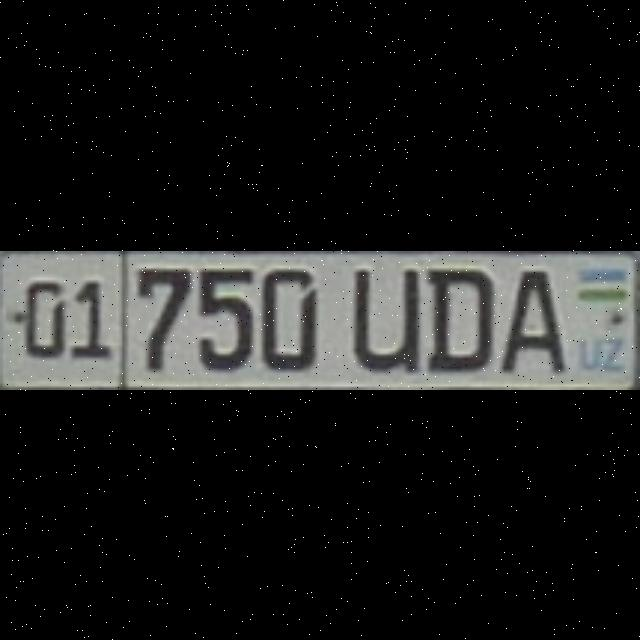0: (255, 262, 312, 366), (20, 276, 60, 354)
1: (65, 276, 107, 354)
5: (193, 264, 250, 366)
7: (134, 262, 184, 366)
A: (498, 265, 562, 369)
D: (423, 264, 491, 366)
U: (349, 262, 417, 366)
